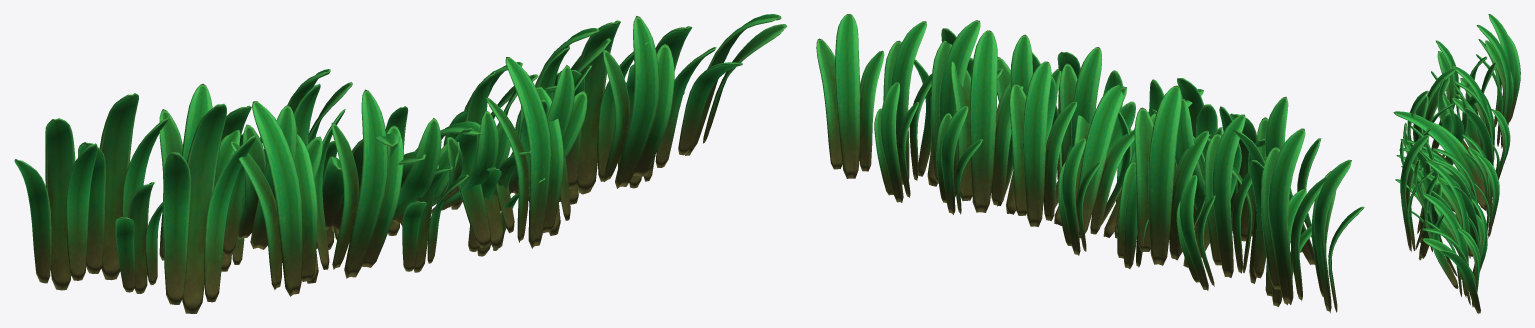
The model's file is grass_02a.fbx.
3 views of the same model, side by side, from view 1: azimuth 30°, elevation 25°; view 2: azimuth 150°, elevation 25°; view 3: azimuth 270°, elevation 25° (orthographic). The views are drawn at different scales.
Visible parts, largest first — view 1: grass_02a.001; view 2: grass_02a.001; view 3: grass_02a.001.
Part boxes in pixels (left/top/right/bottom): grass_02a.001: left=14, top=14, right=787, bottom=313; grass_02a.001: left=816, top=14, right=1364, bottom=313; grass_02a.001: left=1393, top=14, right=1520, bottom=313.
Bounding box in the file's own units: 839 × 210 × 240.
